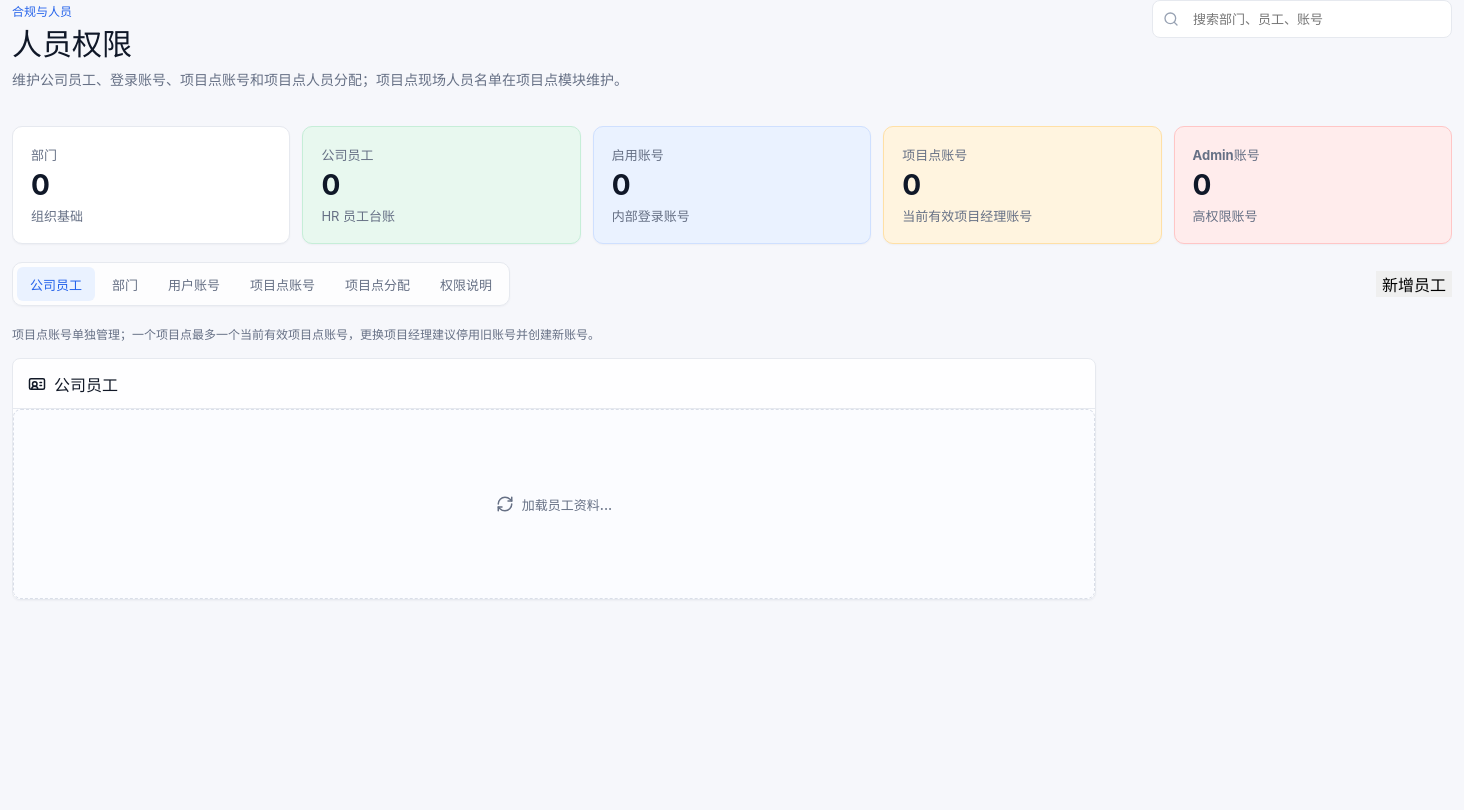
Test: PeoplePermissions access-review export › shows a clear error when access review JSON download fails
This screenshot has width=1464, height=810.
Step 1. Click the tab "用户账号" → x=194, y=284, box [155,268,233,302]
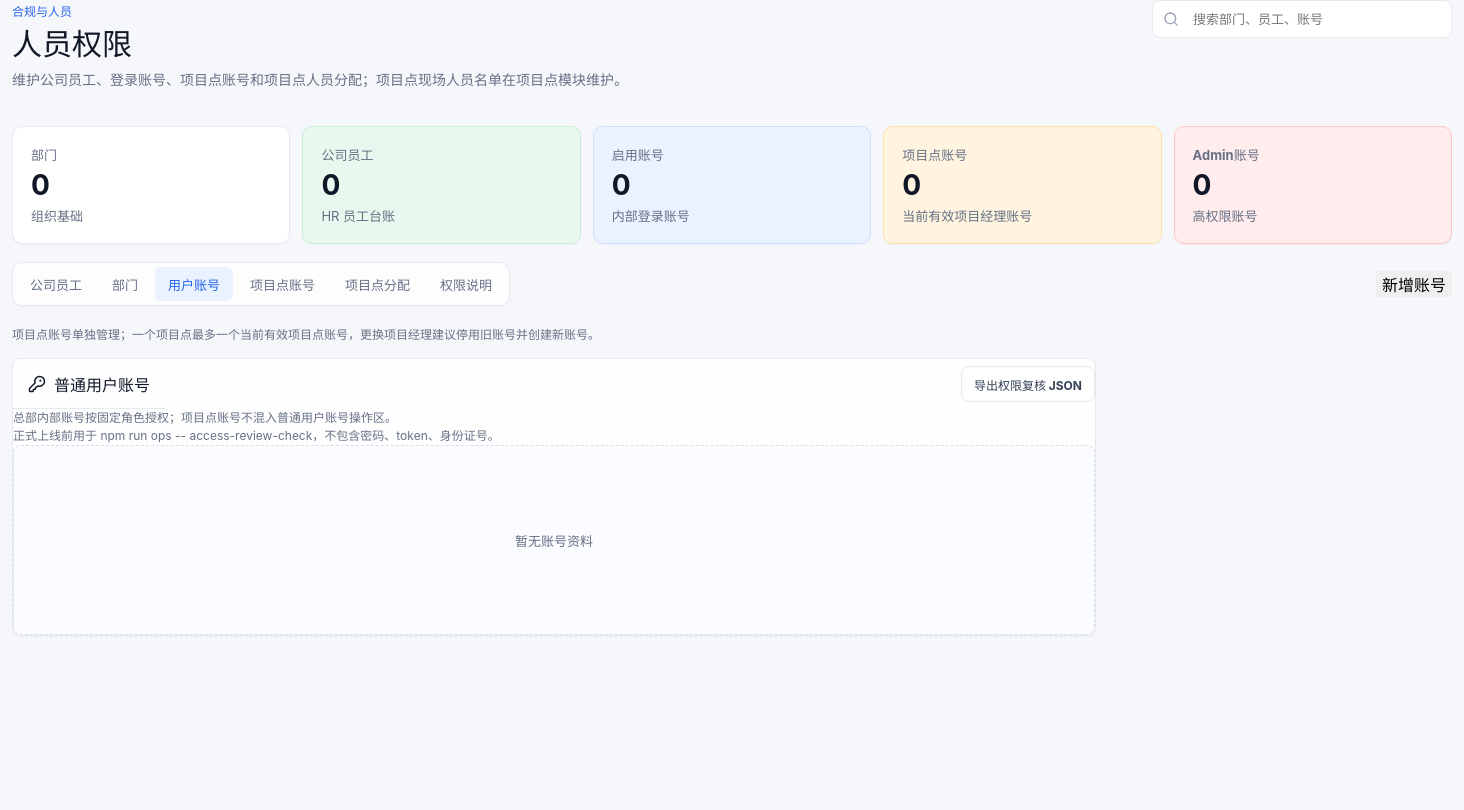
Step 2. Click the button "导出权限复核 JSON" → x=1028, y=384, box [961,366,1095,402]
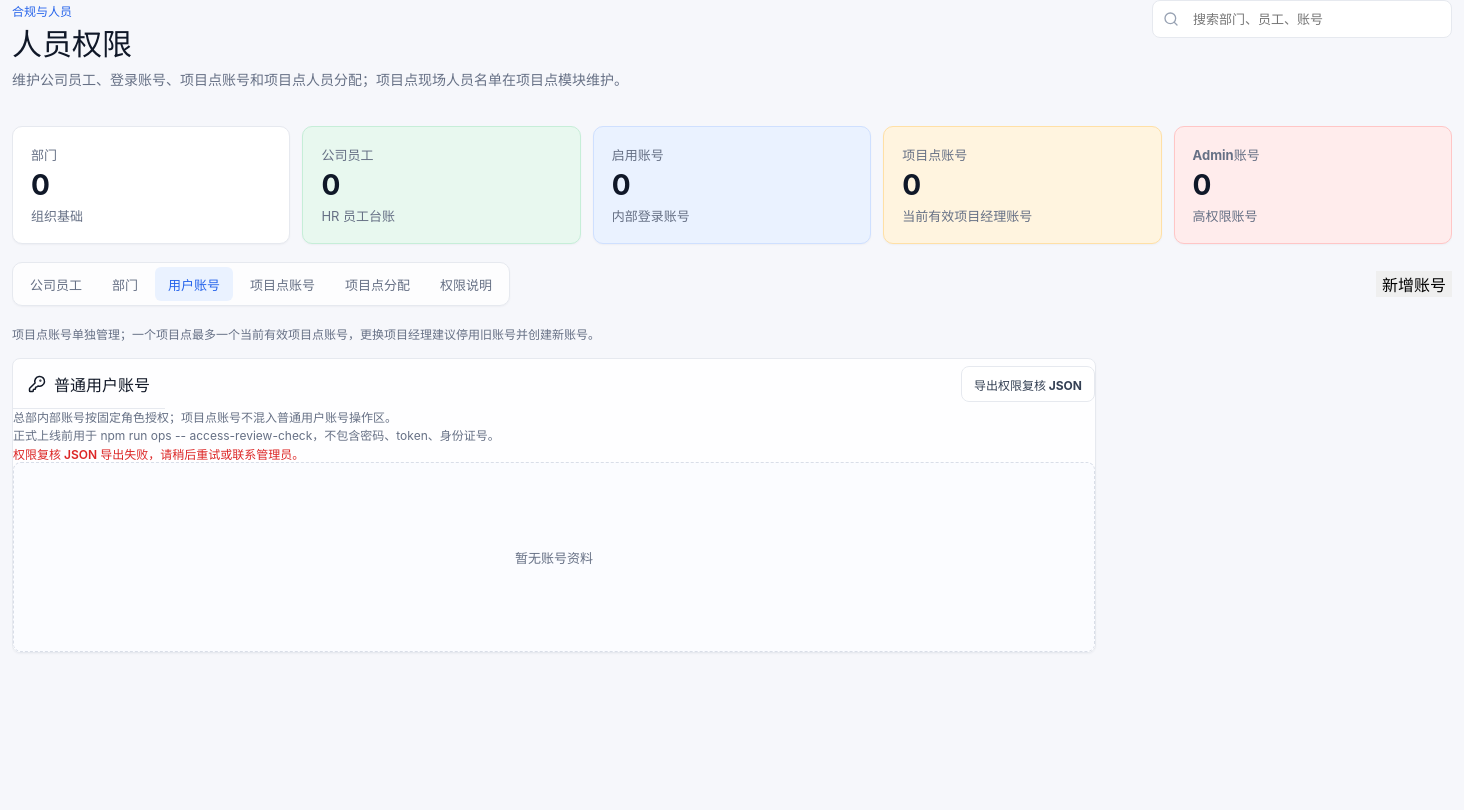
Now the text "权限复核 JSON 导出失败，请稍后重试或联系管理员。" is shown, box [13,448,304,462]
